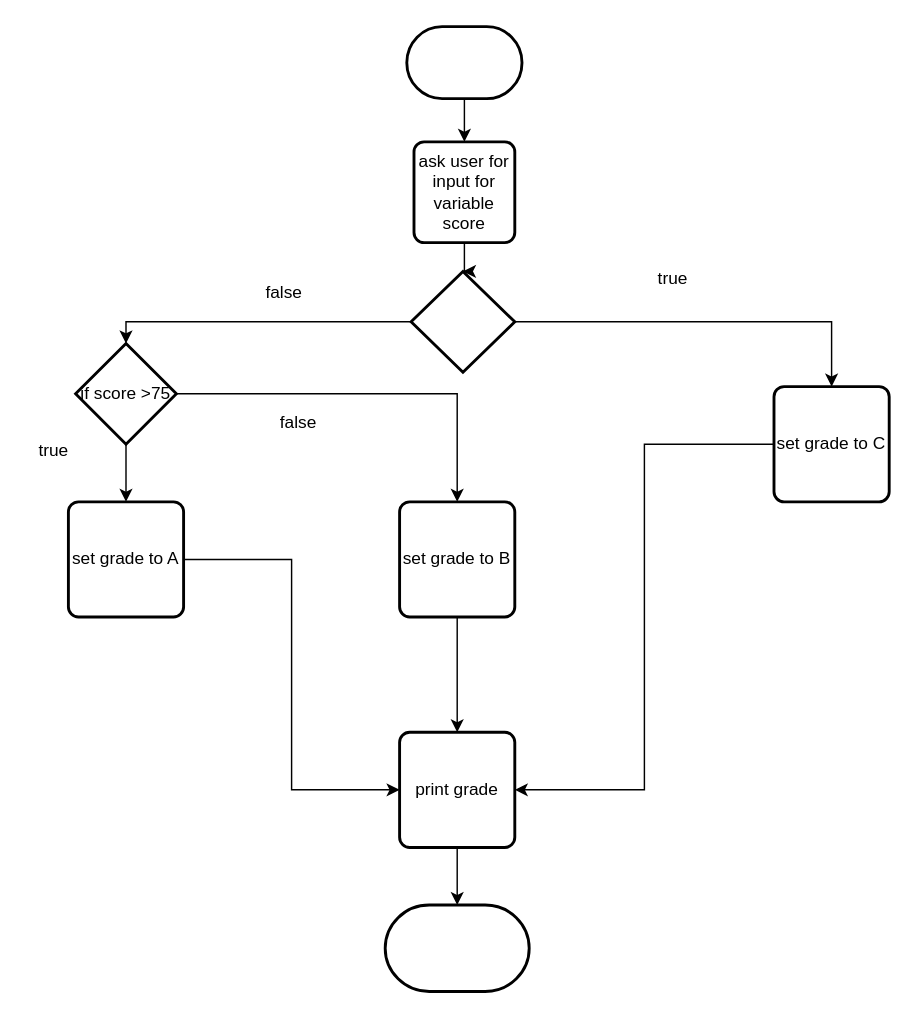
Some shapes in this 914 by 1017 pixel diagram are drawn without their labels. Here are the shapes that lost their labels. From the top down, the centre of each, then its label:
the point at 464,61: start
the point at 462,321: if score > 50 < 59
the point at 456,947: end
